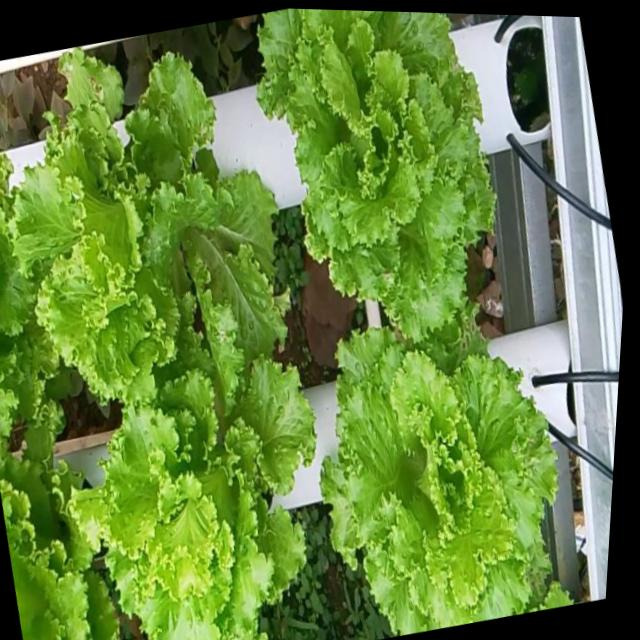Mature: (38, 57, 298, 393), (326, 303, 591, 629), (264, 9, 491, 329), (92, 349, 322, 640)
